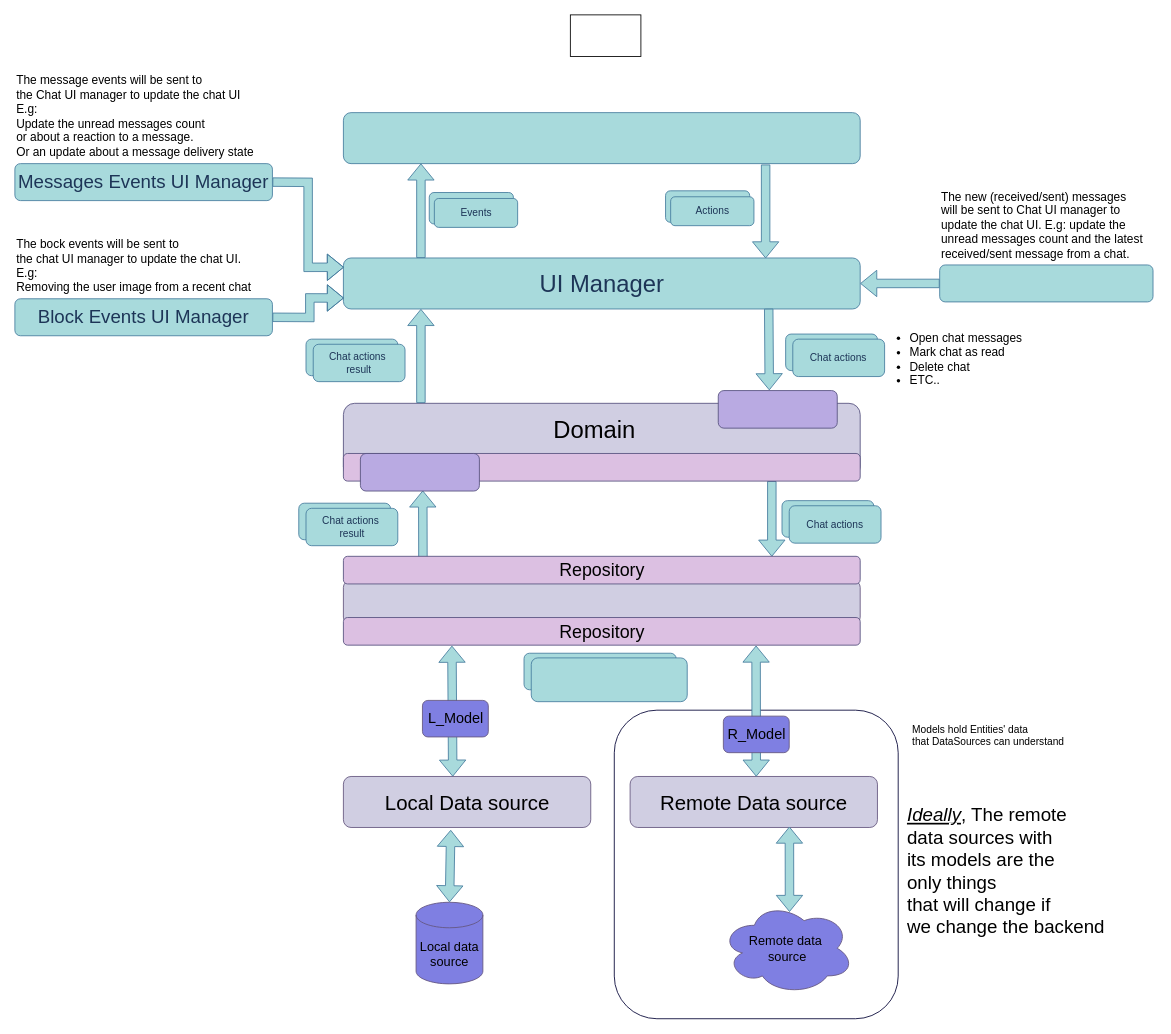
This 1171x1034 diagram has some shape labels left out. Here are the shapes that lost their labels. From the top down, the box of each, then its label:
(570, 14, 641, 57): Chat
(343, 112, 860, 164): UI
(939, 264, 1153, 302): Messages UI Manager
(717, 390, 837, 428): Use Cases
(360, 453, 479, 491): Entities
(343, 453, 860, 481): Abstact Repository
(343, 580, 860, 623): Data
(530, 657, 687, 702): Query chat with latest message and unread messages count for each chat user
